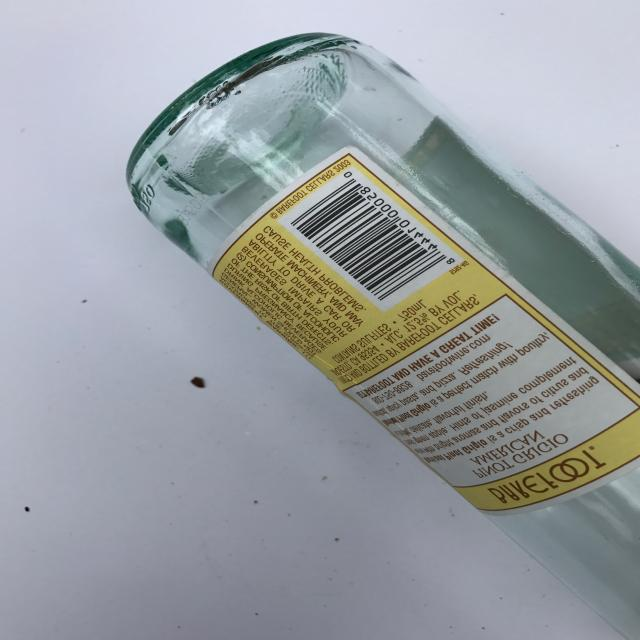glass: (107, 12, 640, 627)
